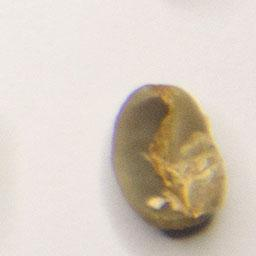premium: (106, 79, 231, 234)
